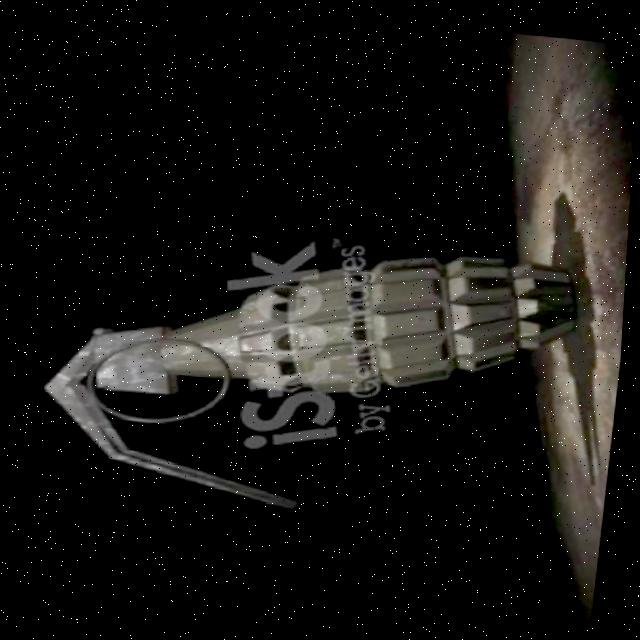grenade: (18, 185, 621, 576)
